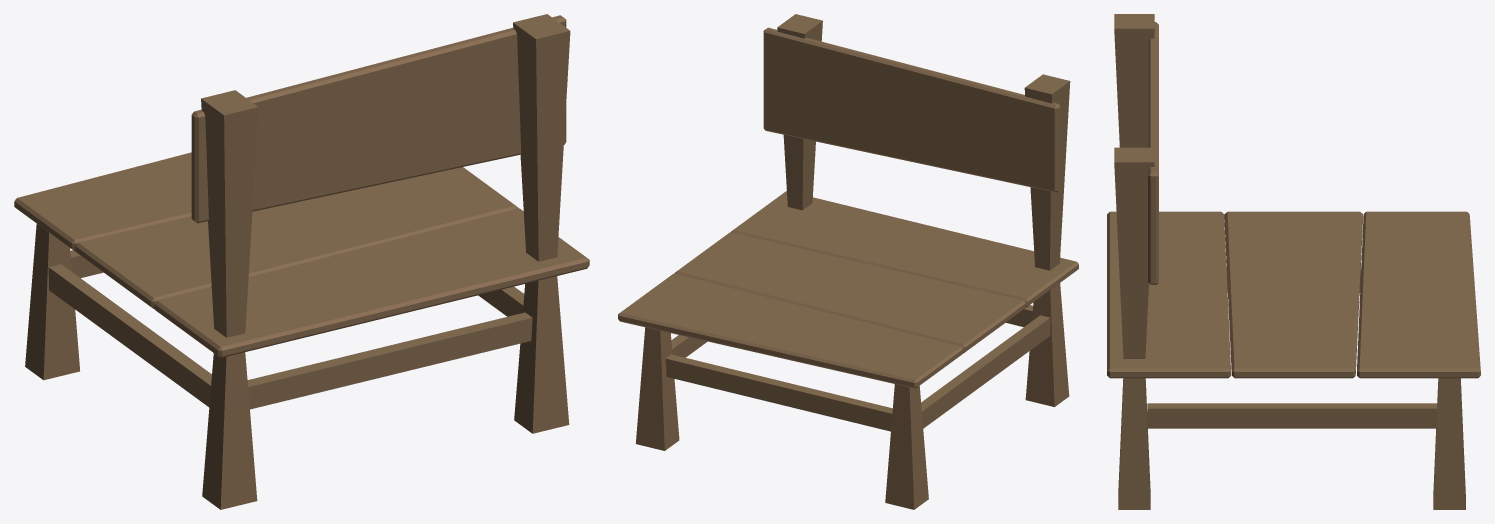
Rendered from Chair2.fbx.
The picture shows the model from 3 angles, left to right: view 1: azimuth 30°, elevation 25°; view 2: azimuth 150°, elevation 25°; view 3: azimuth 270°, elevation 25°; orthographic projection. The views are drawn at different scales.
Visible parts, largest first — view 1: Chair2; view 2: Chair2; view 3: Chair2.
Part boxes in pixels (x1=…): Chair2: x1=14, y1=14, x2=589, y2=509; Chair2: x1=618, y1=14, x2=1078, y2=509; Chair2: x1=1107, y1=14, x2=1480, y2=509.
Bounding box in the file's own units: 2.74 × 2.79 × 2.72.
